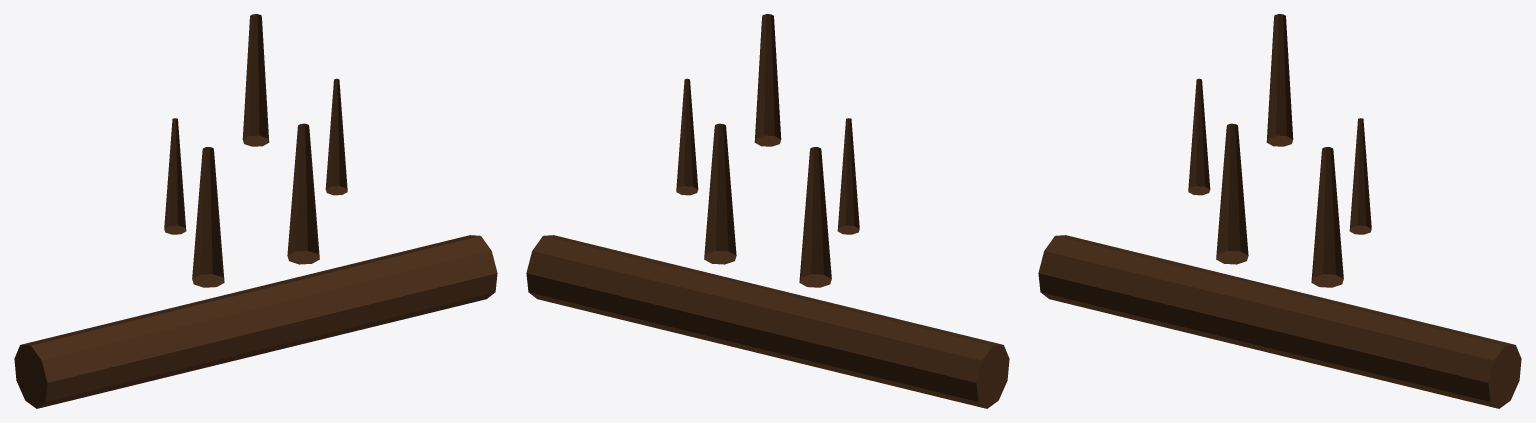
The model's file is Tree_Dead.obj.
3 views of the same model, side by side, from view 1: azimuth 30°, elevation 25°; view 2: azimuth 150°, elevation 25°; view 3: azimuth 330°, elevation 25° (orthographic).
Parts seen in each view (by area): view 1: Trunk, Branch, UpperBranch, TopBranch; view 2: Trunk, Branch, UpperBranch, TopBranch; view 3: Trunk, Branch, UpperBranch, TopBranch.
Part boxes in pixels (box(x1,y1,x2,y2)): Trunk: box(14, 235, 497, 408); Branch: box(192, 123, 319, 287); UpperBranch: box(164, 78, 347, 234); TopBranch: box(242, 14, 269, 146); Trunk: box(526, 235, 1009, 408); Branch: box(704, 123, 831, 287); UpperBranch: box(676, 78, 859, 234); TopBranch: box(754, 14, 781, 146); Trunk: box(1038, 235, 1521, 408); Branch: box(1216, 123, 1343, 287); UpperBranch: box(1188, 78, 1371, 234); TopBranch: box(1266, 14, 1293, 146).
Size of the model in its own units: 3.4 by 2.41 by 0.4334.
